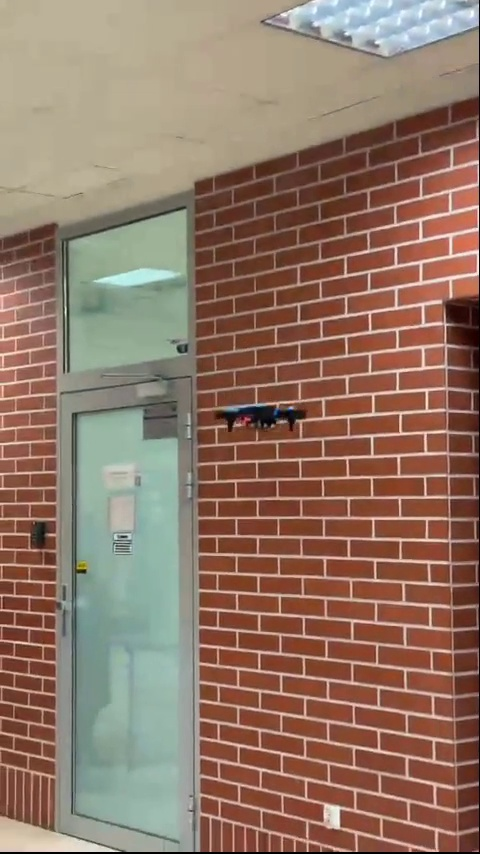drone: (216, 400, 308, 429)
